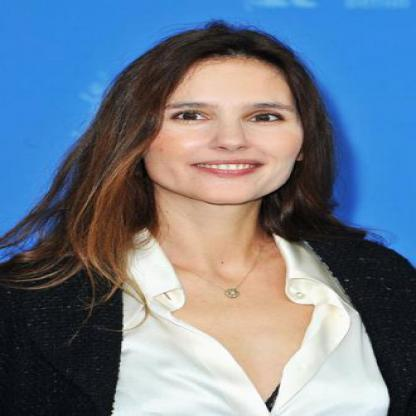long-hair: (35, 203, 344, 235)
